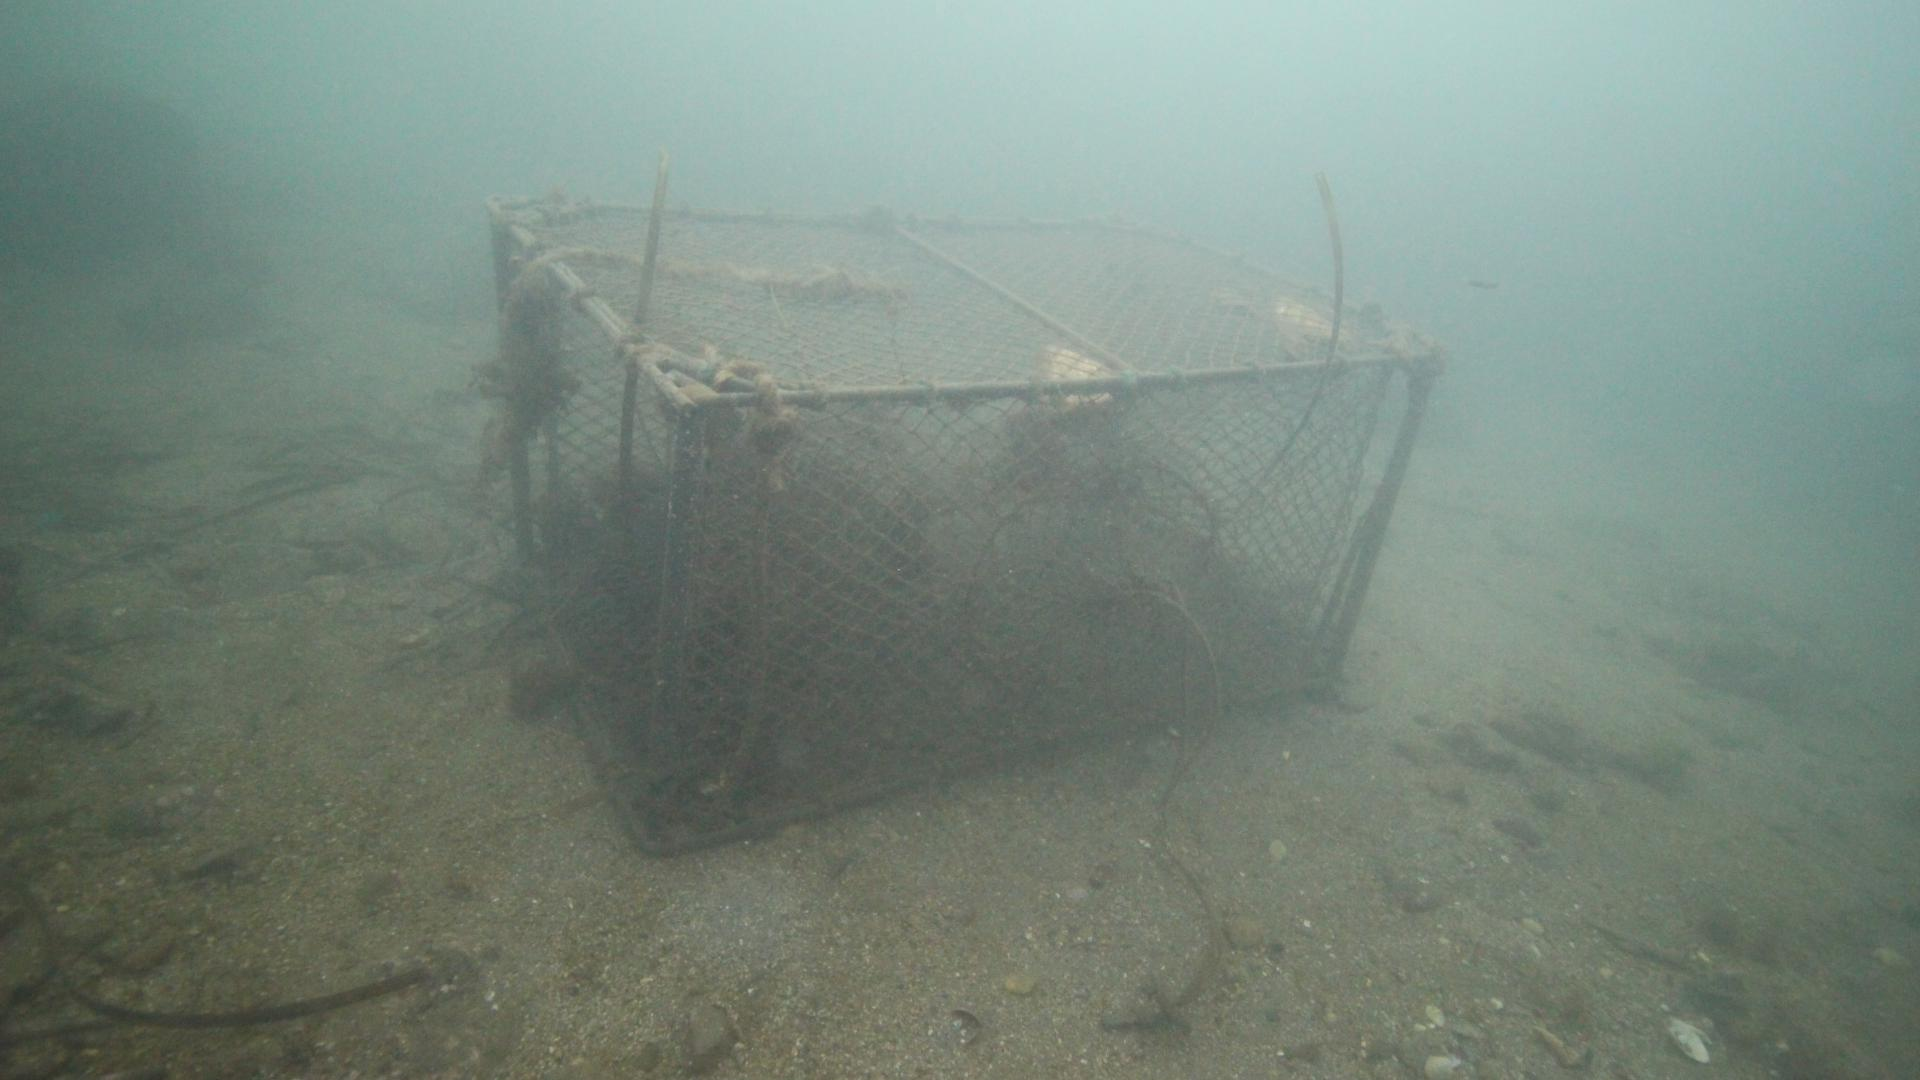rectangular fish trap: (481, 187, 1452, 861)
